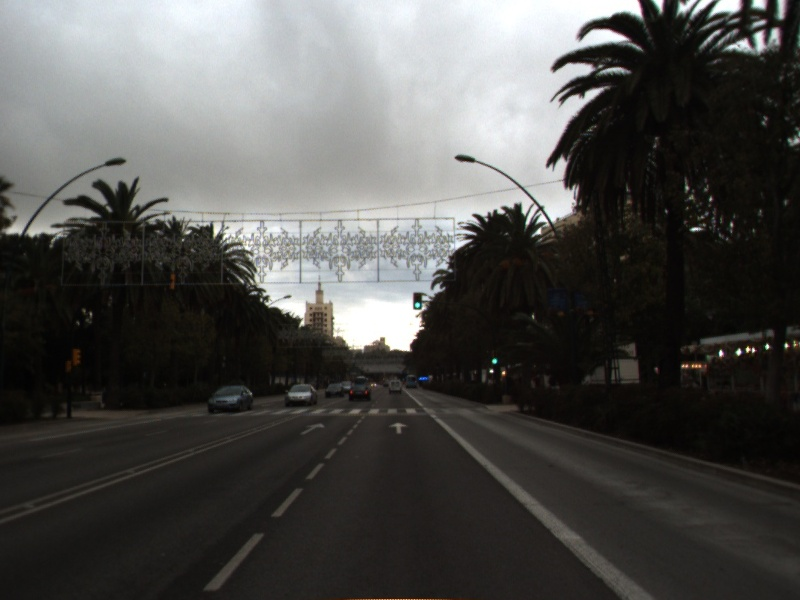STRAIGHT: (297, 421, 327, 437), (387, 420, 410, 436)
